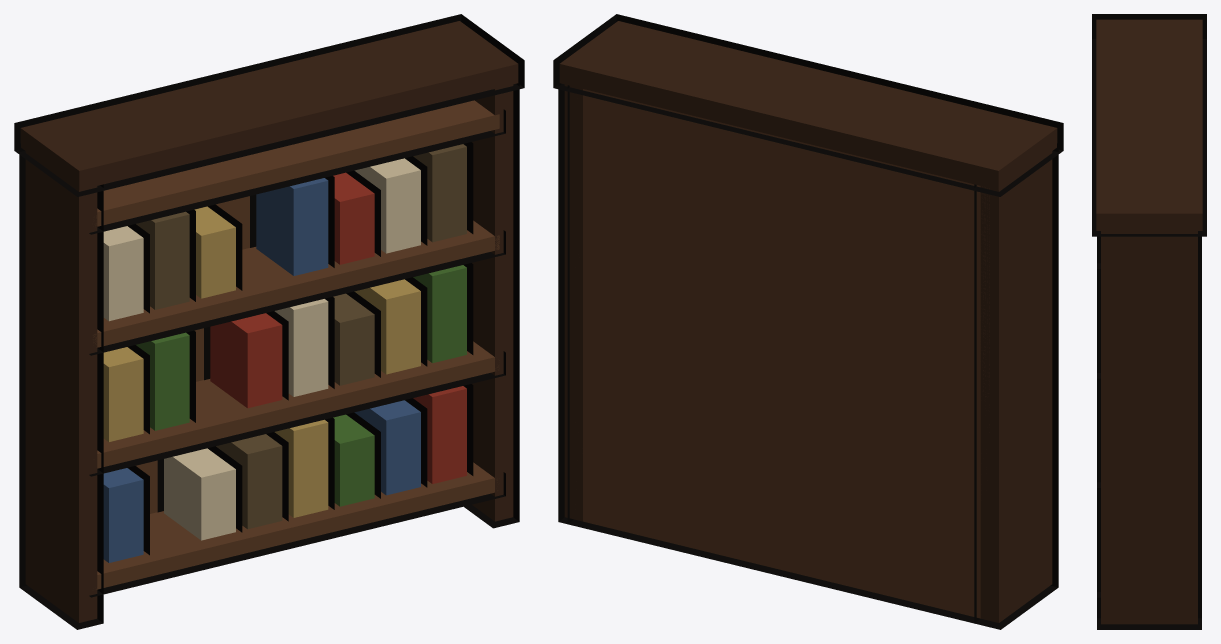
File: bookshelf.glb
The picture shows the model from 3 angles, left to right: view 1: azimuth 30°, elevation 25°; view 2: azimuth 150°, elevation 25°; view 3: azimuth 270°, elevation 25°; orthographic projection. The views are drawn at different scales.
Parts seen in each view (by area): view 1: Prop_hearth_bookshelf; view 2: Prop_hearth_bookshelf; view 3: Prop_hearth_bookshelf.
Part boxes in pixels (x1,y1,x2,y2): Prop_hearth_bookshelf: [14, 14, 524, 629]; Prop_hearth_bookshelf: [553, 14, 1063, 629]; Prop_hearth_bookshelf: [1092, 14, 1206, 629].
Bounding box in the file's own units: 1.93 × 1.91 × 0.4746.
